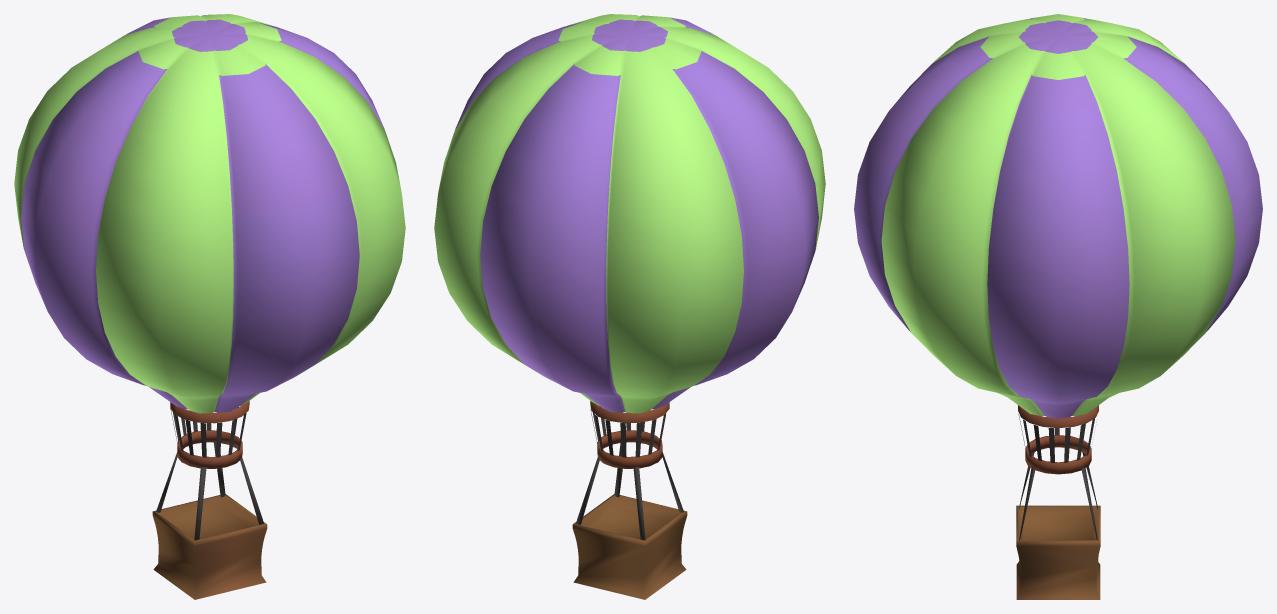
Rendered from khinhkhicau2.fbx.
3 views of the same model, side by side, from view 1: azimuth 30°, elevation 25°; view 2: azimuth 150°, elevation 25°; view 3: azimuth 270°, elevation 25° (orthographic).
Visible parts, largest first — view 1: Sphere.003_Material.007_0.002; view 2: Sphere.003_Material.007_0.002; view 3: Sphere.003_Material.007_0.002.
Boxes of the visible parts, bbox=[...] form: Sphere.003_Material.007_0.002: bbox=[14, 14, 405, 599]; Sphere.003_Material.007_0.002: bbox=[434, 14, 825, 599]; Sphere.003_Material.007_0.002: bbox=[854, 14, 1262, 599].
Bounding box in the file's own units: 212 × 311 × 212.
